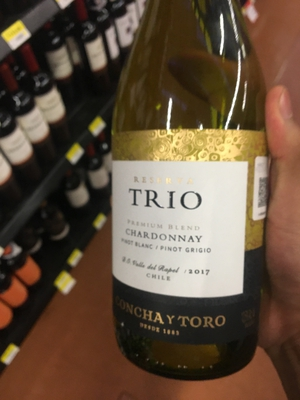trio chardonnay: (100, 21, 265, 378)
